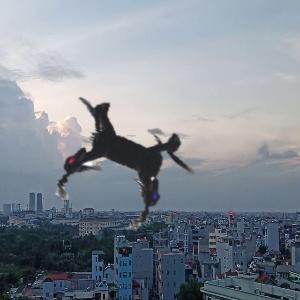drone: (6, 36, 255, 285)
